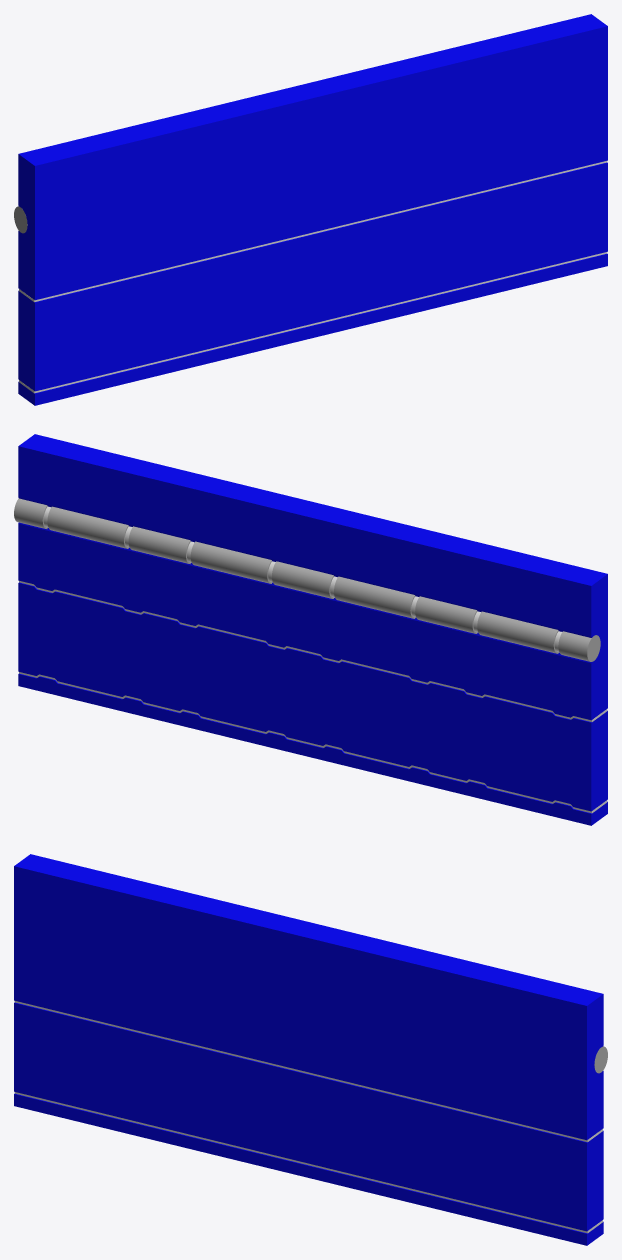
File: Walls3x1Merged.fbx
The picture shows the model from 3 angles, top to bottom: view 1: azimuth 30°, elevation 25°; view 2: azimuth 150°, elevation 25°; view 3: azimuth 330°, elevation 25°; orthographic projection.
Visible parts, largest first — view 1: Wall3x1_Combined; view 2: Wall3x1_Combined; view 3: Wall3x1_Combined.
Part boxes in pixels (x1,y1,x2,y2): Wall3x1_Combined: [14, 14, 607, 405]; Wall3x1_Combined: [14, 434, 607, 825]; Wall3x1_Combined: [14, 854, 607, 1245].
Bounding box in the file's own units: 2000 × 800 × 126.
